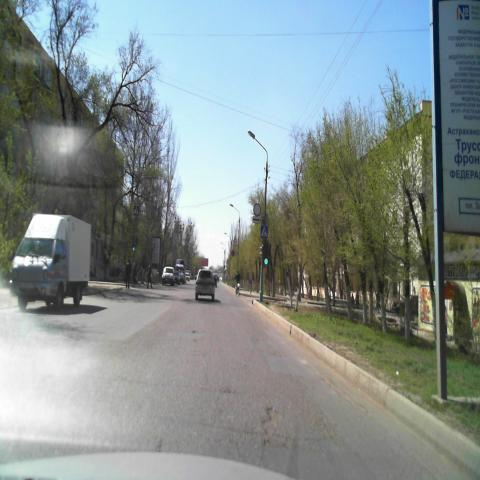3_2: (253, 202, 261, 216)
